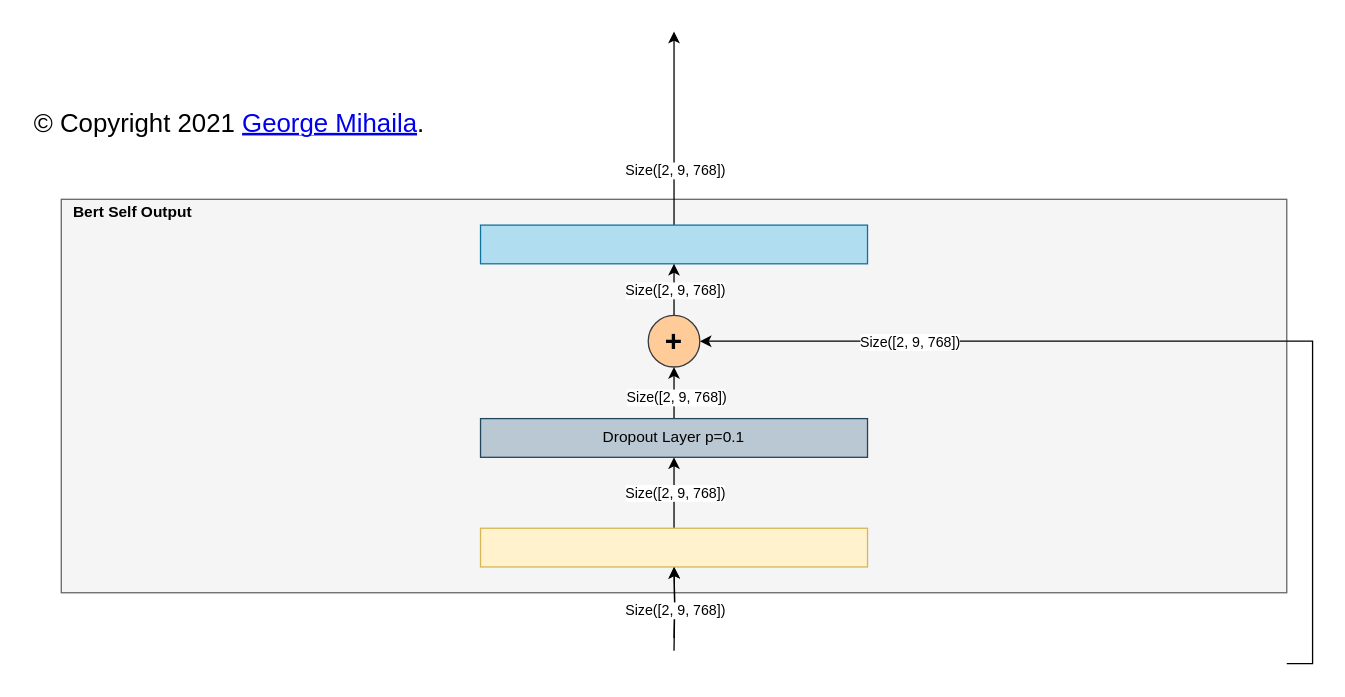
Image size: 1345x697. Some labels were removed from this diagram. Here are the shapes that lost their labels. From the top down, the box of each, then its label:
(479, 224, 868, 264): Layer Normalization
(479, 527, 868, 567): Linear Layer
